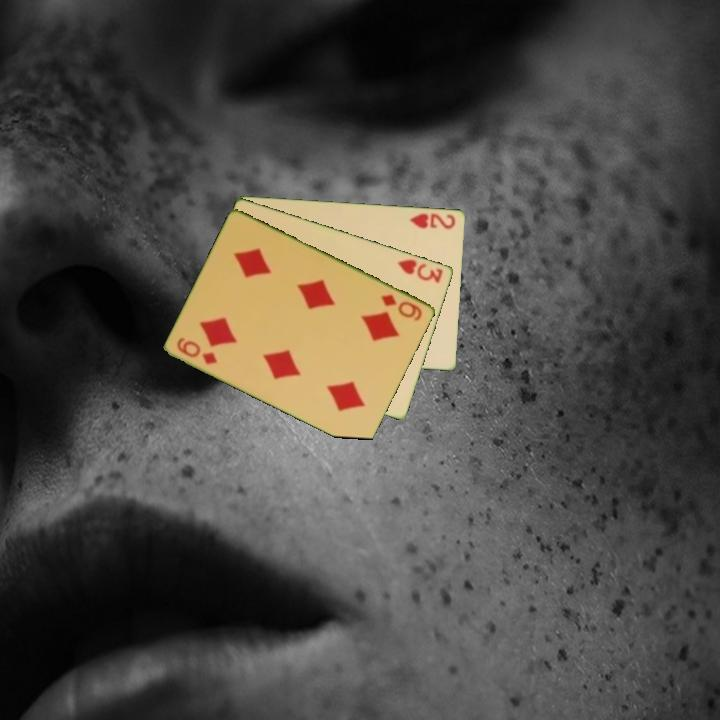2h: (406, 210, 458, 231)
3h: (394, 255, 446, 286)
6d: (173, 334, 221, 367), (378, 291, 425, 324)
